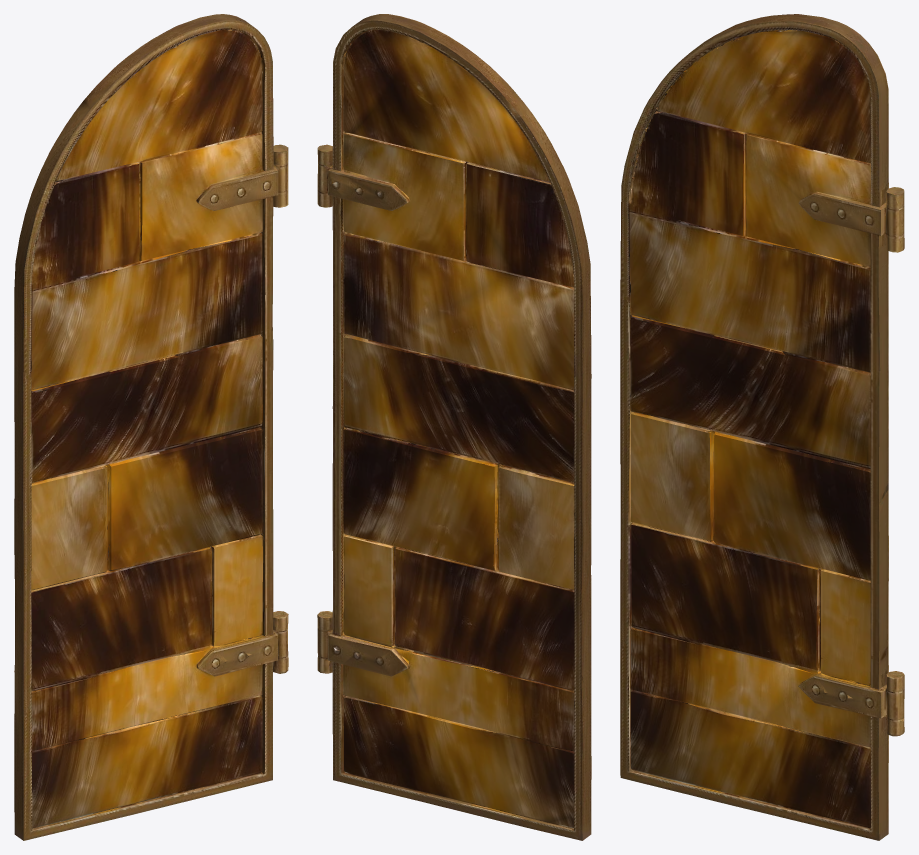
File: P1L_gate_horn_leaf_game.glb
The picture shows the model from 3 angles, left to right: view 1: azimuth 30°, elevation 25°; view 2: azimuth 150°, elevation 25°; view 3: azimuth 330°, elevation 25°; orthographic projection. The views are drawn at different scales.
Visible parts, largest first — view 1: P1L_gate_horn_leaf; view 2: P1L_gate_horn_leaf; view 3: P1L_gate_horn_leaf.
Boxes of the visible parts, x1,y1,x2,y2 form: P1L_gate_horn_leaf: (14,14,288,840); P1L_gate_horn_leaf: (317,14,591,840); P1L_gate_horn_leaf: (620,14,904,840).
Bounding box in the file's own units: 0.8746 × 2.4 × 0.0852.
Materials: 1 (1 with a texture image).
